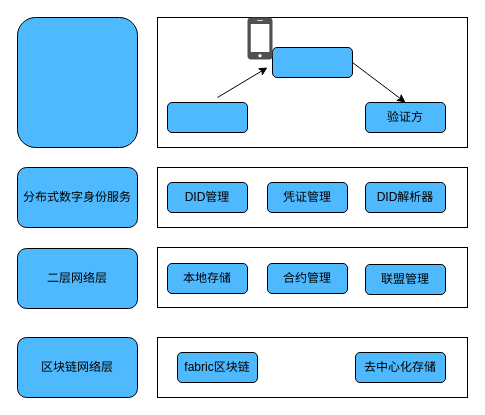
The diagram is 485 pixels wide and 415 high, and some of its shapes have lost their labels. The shapes that lost their labels are listed below. From the top down, each one's centre as x and y in pixels, then its label:
At (77,82): "可信交换层".
At (312,62): "持有者".
At (207,117): "发行方".
